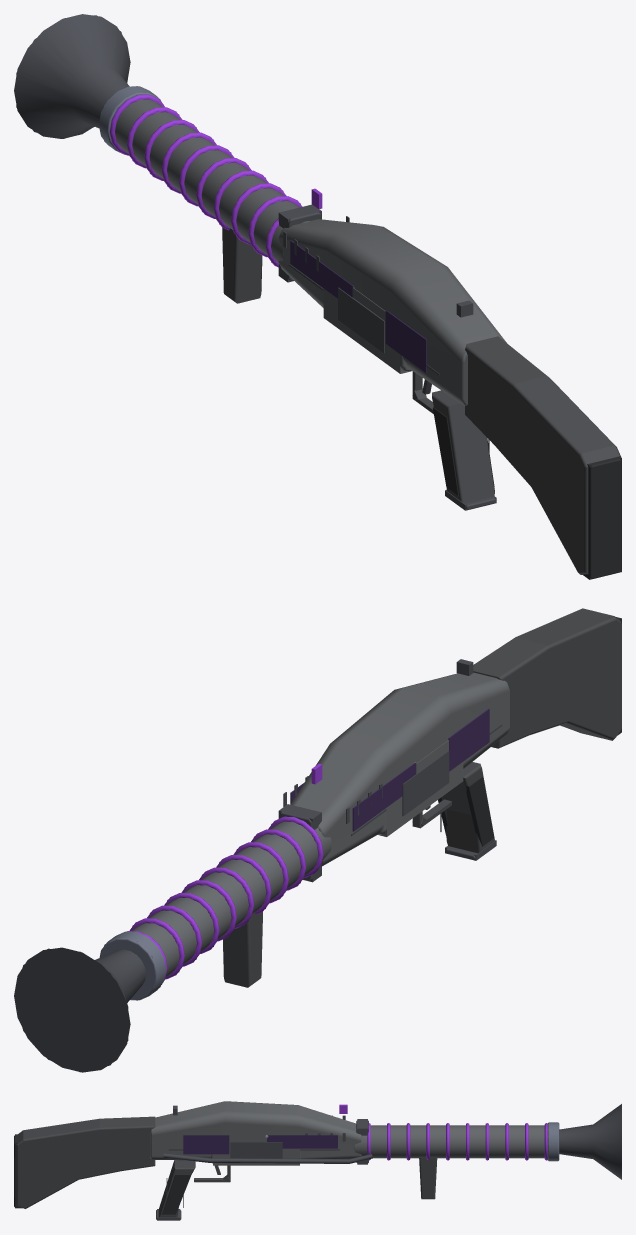
File: qcollapse.glb
3 renders of one model, top to bottom at view 1: azimuth 30°, elevation 25°; view 2: azimuth 150°, elevation 25°; view 3: azimuth 270°, elevation 25°, orthographic. The views are drawn at different scales.
Visible parts, largest first — view 1: L0, L1; view 2: L0, L1; view 3: L0, L1.
Part boxes in pixels (<box>): L0: <box>14,14,621,579</box>; L1: <box>16,15,621,579</box>; L0: <box>14,608,621,1072</box>; L1: <box>14,617,621,1072</box>; L0: <box>14,1101,621,1219</box>; L1: <box>15,1105,621,1220</box>.
Bounding box in the file's own units: 0.132 × 0.2115 × 1.05.
